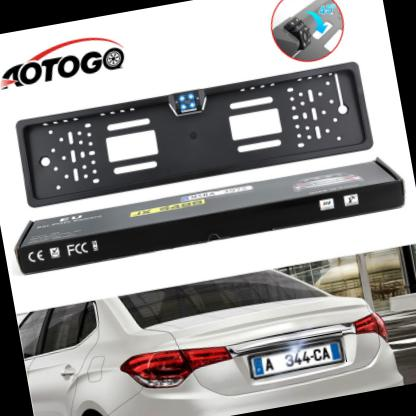Plates: (244, 331, 348, 379)
